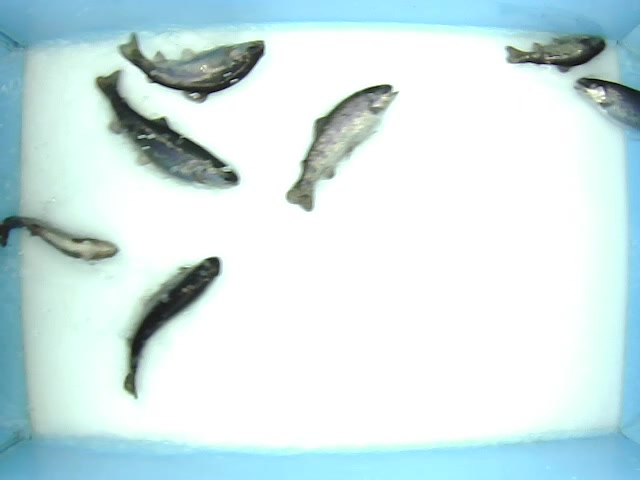fish: (92, 68, 241, 191), (283, 82, 399, 214), (122, 252, 221, 400), (114, 28, 270, 103), (1, 212, 118, 261), (503, 31, 606, 76)
